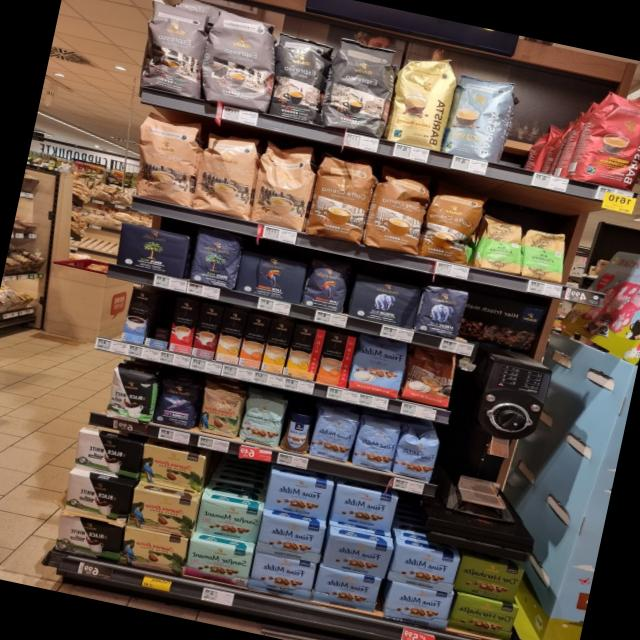AB Bohne: (414, 281, 469, 339)
AB Gemahlen: (346, 275, 422, 329)
Athiopien Gemahlen: (475, 213, 528, 276), (518, 224, 571, 284)
BM Bohne: (112, 220, 192, 278), (185, 230, 242, 290)
BW Bohne: (103, 365, 156, 425)
BW Gemahlen: (70, 428, 144, 481), (52, 510, 125, 563), (61, 471, 134, 523)
Barista CB: (383, 47, 460, 153)
Barista CC: (441, 68, 520, 165)
Barista Kolumbien: (571, 80, 640, 195)
C Fino Bohne: (151, 372, 203, 430)
CC Mild: (124, 108, 206, 206), (188, 124, 264, 220), (248, 136, 321, 232)
CC Vollmundig: (400, 344, 459, 408)
CC Vollmundig 36 Pads: (303, 150, 378, 246), (362, 164, 436, 257), (418, 180, 490, 268)
Colombia BB Bohne: (194, 385, 244, 439)
Colombia BB Gemahlen: (125, 486, 198, 538), (118, 524, 190, 576), (136, 443, 206, 493)
Empty Shelf: (504, 79, 587, 177), (147, 293, 176, 341)
Espresso Aromatisch: (195, 12, 282, 112), (134, 0, 210, 98)
Espresso Kraftig: (317, 37, 398, 137), (266, 32, 336, 124)
FM 36 Pads: (346, 334, 408, 399)
FM Bohne: (308, 409, 360, 463), (392, 428, 442, 482), (350, 418, 400, 472)
FM Gemahlen: (254, 512, 326, 565), (386, 543, 461, 593), (382, 578, 454, 630), (262, 470, 334, 522), (328, 482, 399, 534), (246, 550, 316, 600), (310, 564, 382, 612), (322, 532, 394, 580)
FM Instant: (278, 408, 316, 454)
Herzhatfe Mundig: (452, 554, 526, 604), (446, 592, 519, 640)
LG Bohne: (300, 256, 353, 314)
LG Gemahlen: (233, 252, 308, 304)
SM Bohne: (237, 393, 287, 448)
SM Gemahlen: (183, 536, 254, 588), (194, 496, 262, 546)
Simo CCMild: (284, 324, 325, 381)
Simo CCMild bigpack: (261, 321, 293, 374)
Simo CCVollmundig: (314, 330, 356, 388)
Simo CCVollmundig bigpack: (237, 314, 270, 370)
Simo Decaff: (214, 308, 246, 364)
Simo Es Brazil: (166, 298, 199, 355)
Simo Es Caramel: (190, 304, 223, 359)
Simo Es Vanilla: (120, 286, 156, 346)
